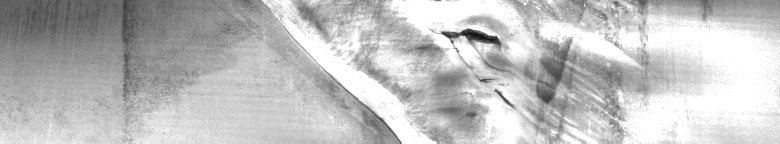ke: (317, 4, 624, 136)
